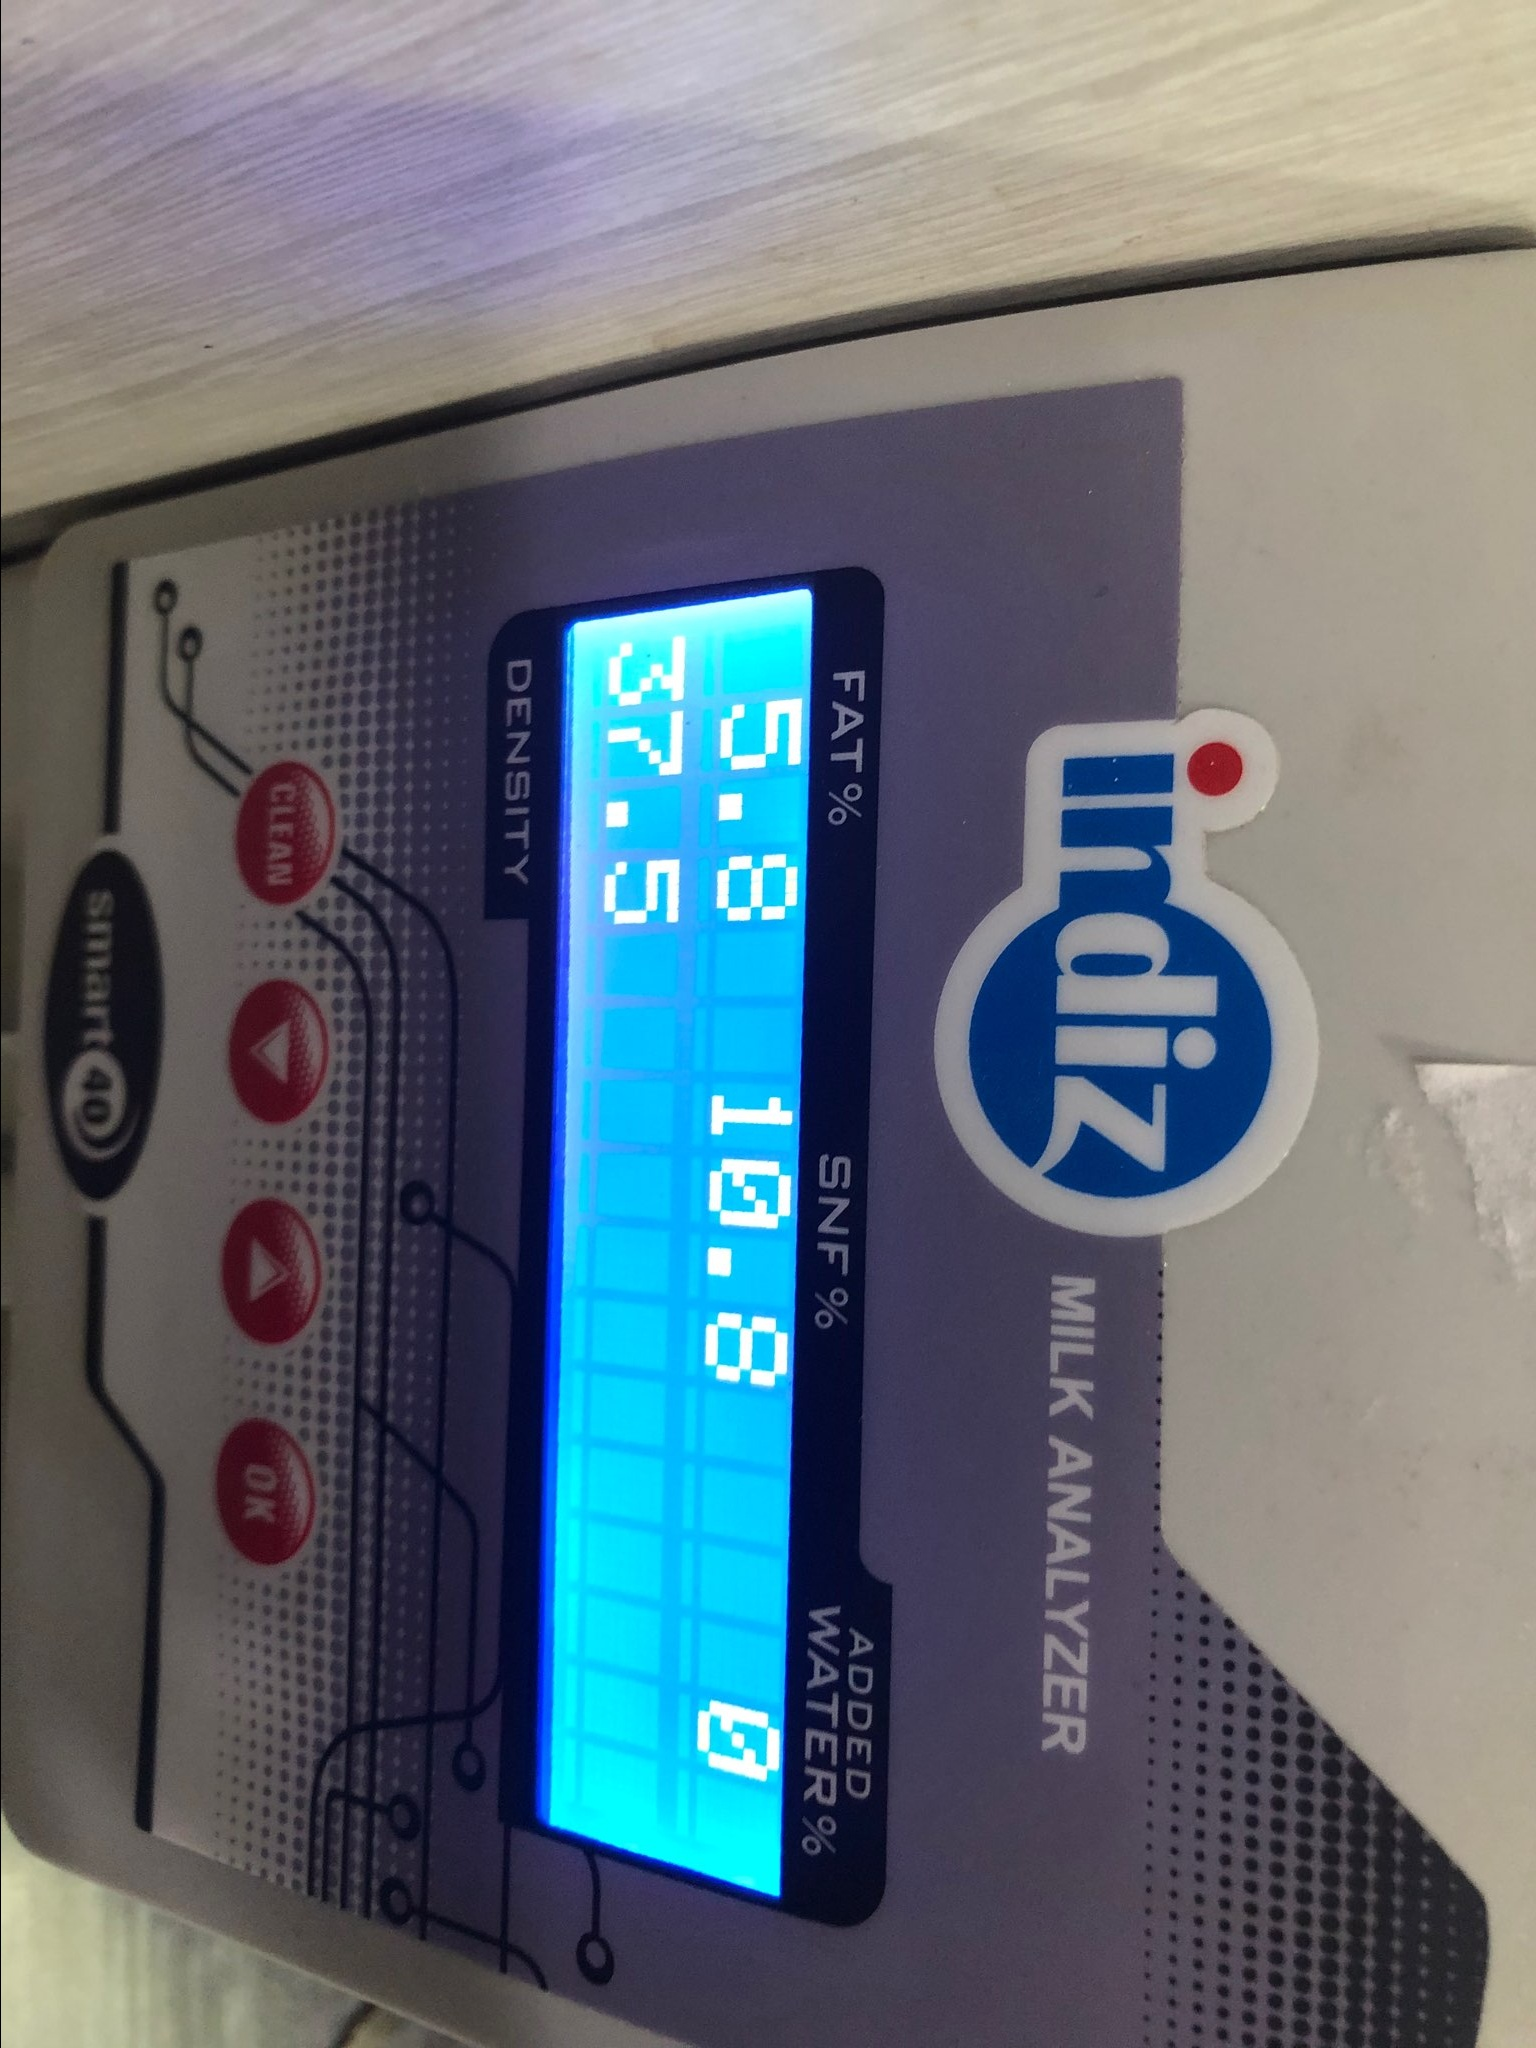lcd: (487, 552, 936, 1942)
